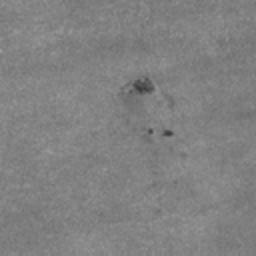Iron sheet ash: (132, 76, 156, 95), (164, 129, 173, 137)
